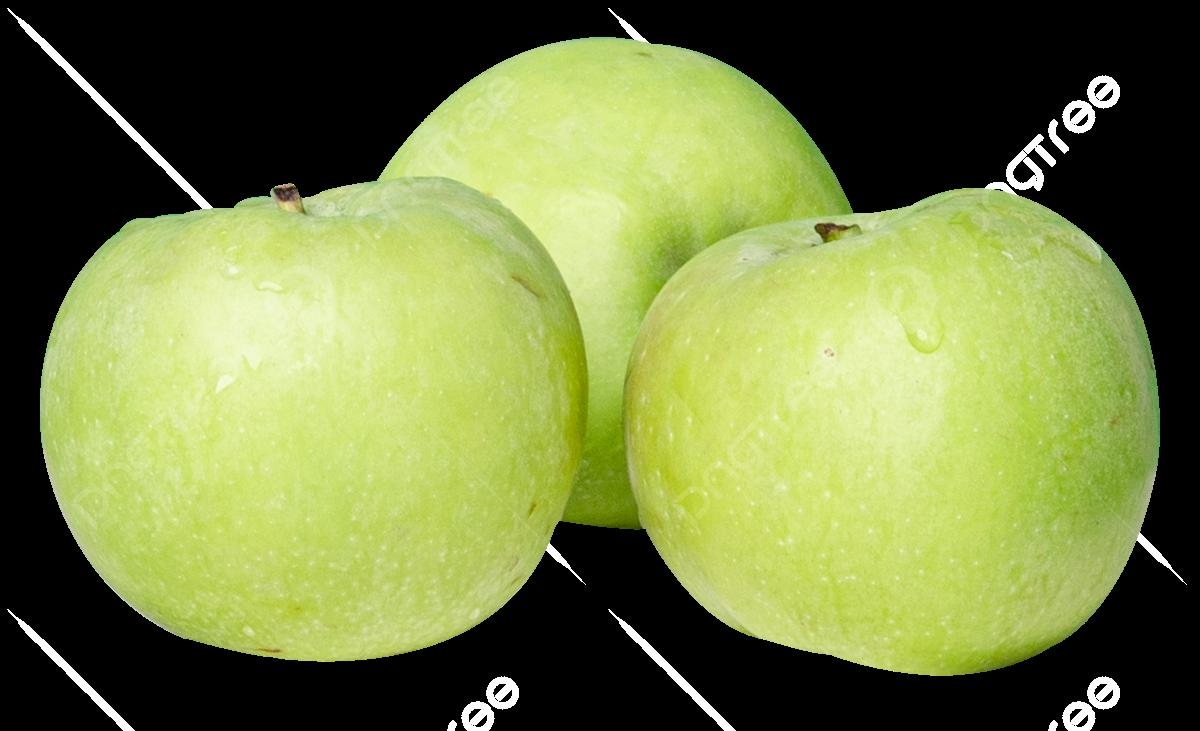apples: (40, 39, 1167, 730)
